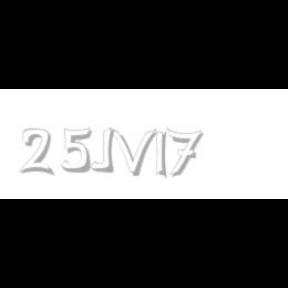2: (18, 128, 52, 176)
5: (60, 128, 92, 174)
7: (166, 128, 204, 178)
J: (90, 128, 115, 172)
V: (109, 128, 157, 176)
l: (155, 128, 171, 180)
